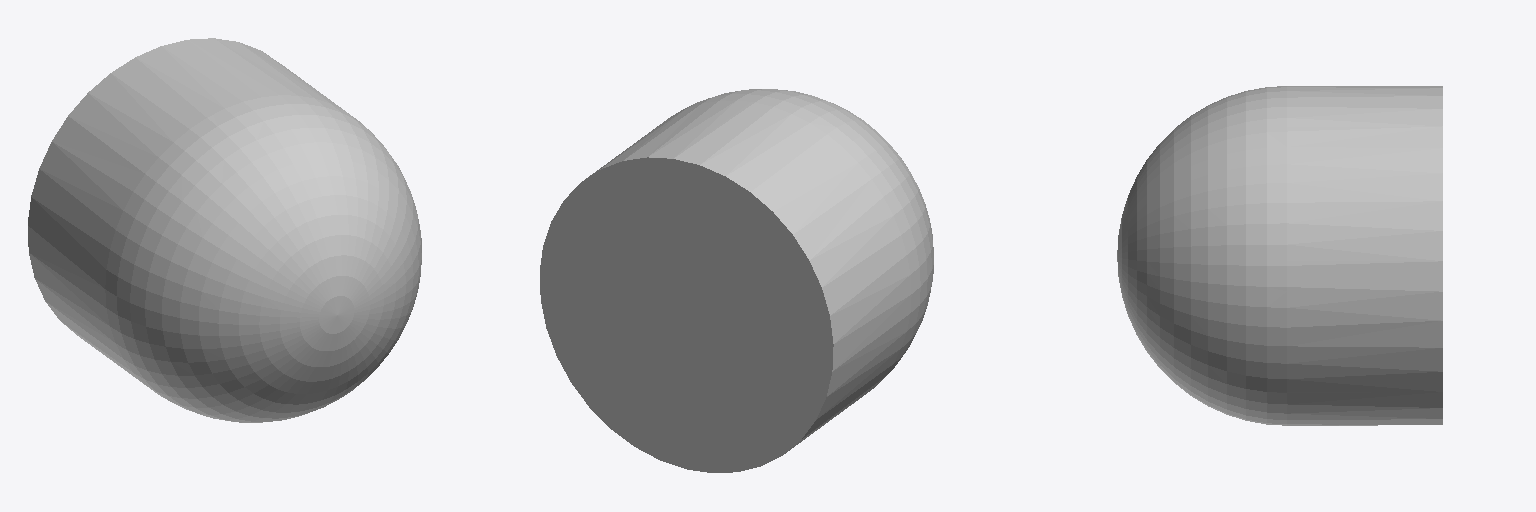
Rendered from link_15.0_tip.obj.
3 renders of one model, left to right at view 1: azimuth 30°, elevation 25°; view 2: azimuth 150°, elevation 25°; view 3: azimuth 270°, elevation 25°, orthographic.
Visible parts, largest first — view 1: link_15.0_tip; view 2: link_15.0_tip; view 3: link_15.0_tip.
Boxes of the visible parts, <box> form: link_15.0_tip: <box>28,38,421,422</box>; link_15.0_tip: <box>540,89,933,472</box>; link_15.0_tip: <box>1117,86,1442,425</box>.
Size of the model in its own units: 0.024 by 0.024 by 0.023.